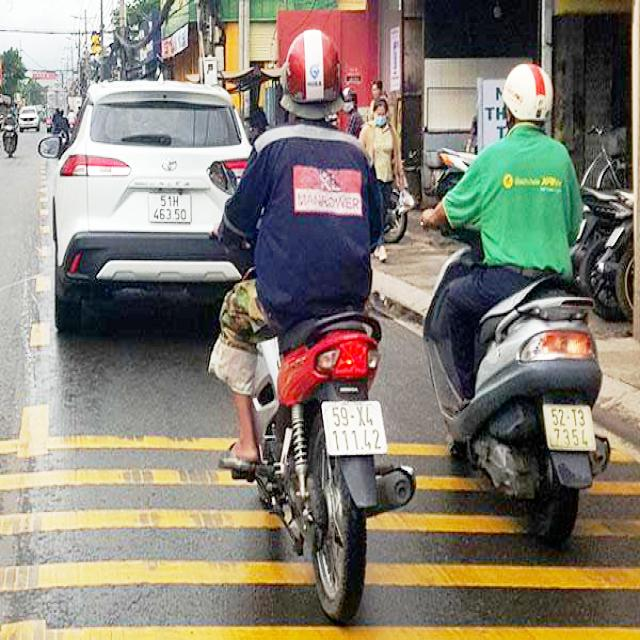license_plate: (322, 401, 388, 455), (542, 406, 597, 451), (145, 188, 195, 224)
